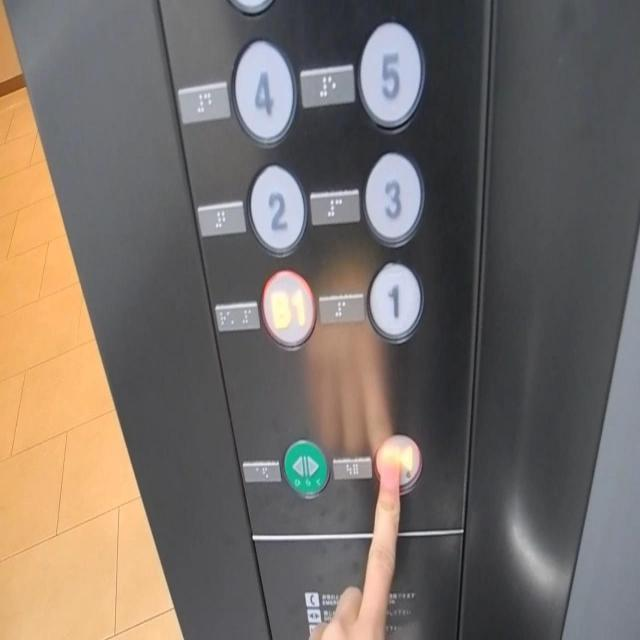1: (367, 260, 422, 340)
2: (248, 163, 306, 254)
3: (363, 148, 423, 244)
4: (230, 39, 296, 143)
5: (358, 20, 420, 126)
B1: (259, 266, 315, 349)
close: (373, 434, 421, 492)
open: (283, 438, 329, 500)
